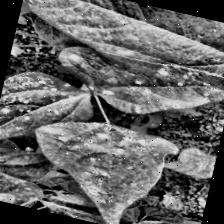Bean Rust: (19, 108, 178, 224), (50, 39, 224, 137), (0, 65, 99, 167), (0, 166, 49, 211)
